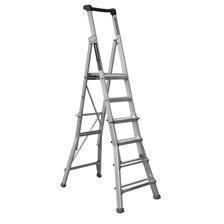Feet: (75, 96, 193, 176), (11, 84, 132, 128)
